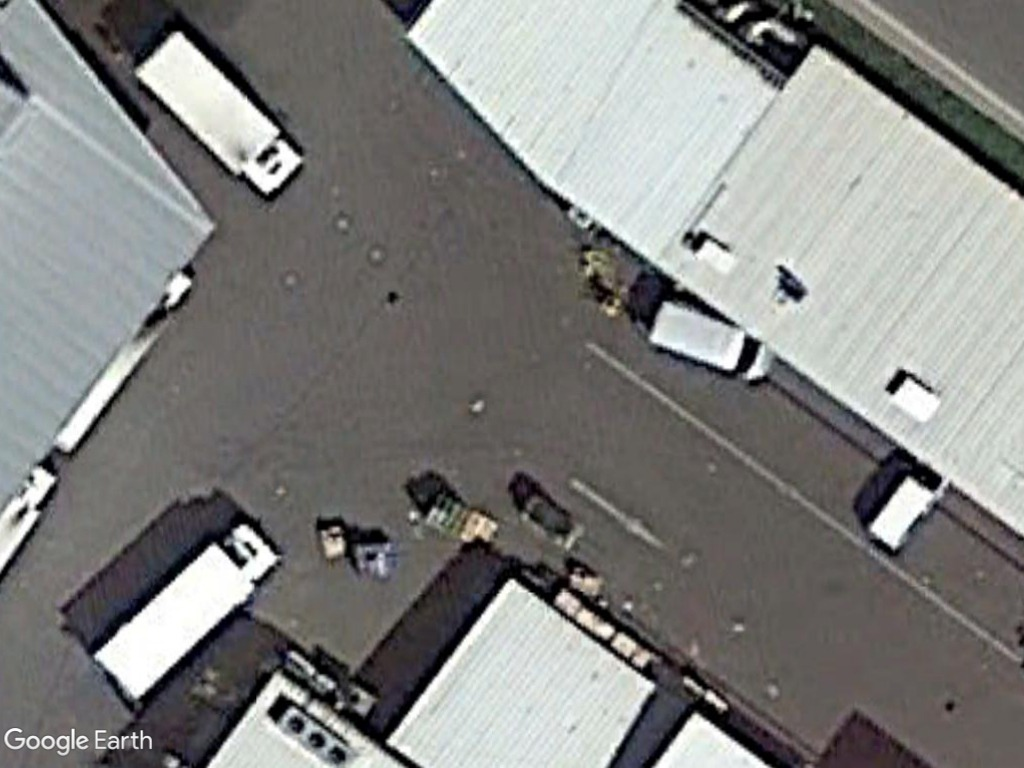truck: (90, 520, 284, 713), (131, 25, 304, 201)
van: (642, 296, 778, 388)
